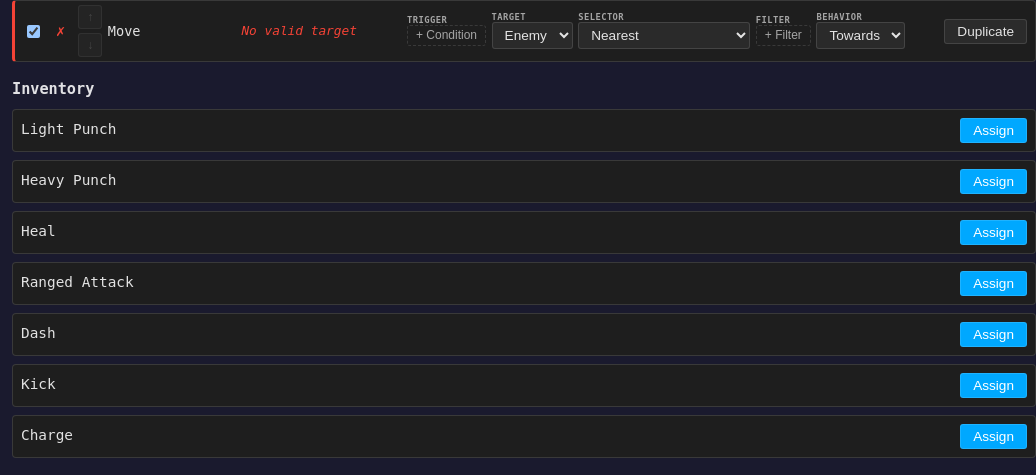
it: SkillNameWithTooltip › Integration › works in Inventory context
Note: Light Punch should appear in the inventory since it is not assigned
Hover over the text "Light Punch" at {"x": 69, "y": 130}, box [21,122,116,138]
Wait 150 ms
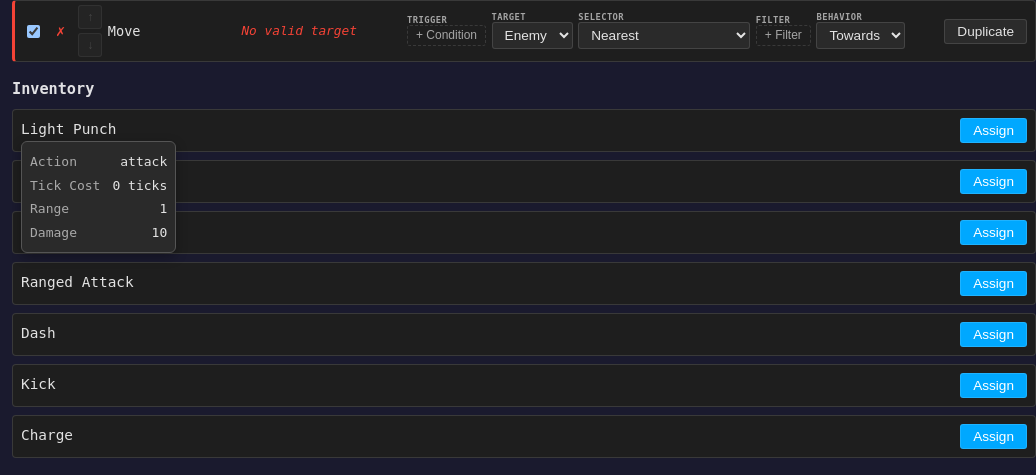
Now the tooltip "Action attack Tick Cost 0 ticks Range 1 Damage 10" is shown, box [21,142,176,254]
Now the tooltip shows "attack", box [120,154,167,170]
Now the tooltip shows "Damage", box [30,225,77,240]
